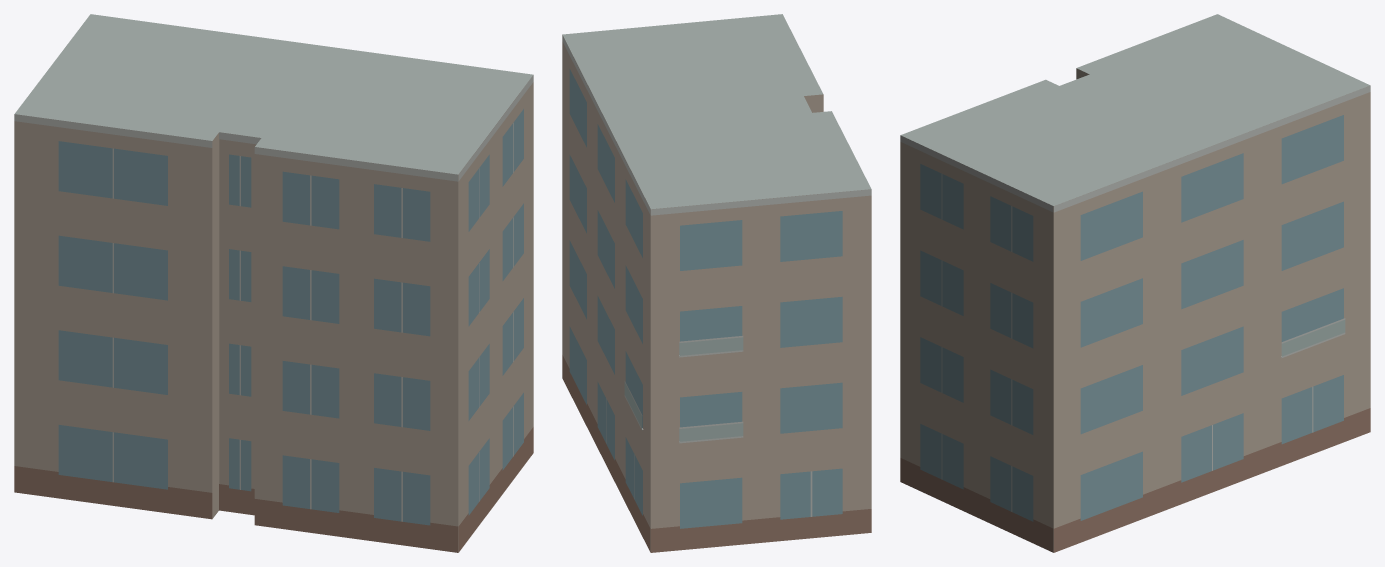
File: survey-upis-32954244.glb
3 views of the same model, side by side, from view 1: azimuth 30°, elevation 25°; view 2: azimuth 150°, elevation 25°; view 3: azimuth 270°, elevation 25° (orthographic). The views are drawn at different scales.
Parts seen in each view (by area): view 1: survey-upis-32954244.tmp; view 2: survey-upis-32954244.tmp; view 3: survey-upis-32954244.tmp.
Part boxes in pixels (bbox=[...]): survey-upis-32954244.tmp: bbox=[14, 14, 533, 552]; survey-upis-32954244.tmp: bbox=[562, 14, 871, 552]; survey-upis-32954244.tmp: bbox=[900, 14, 1370, 552].
Size of the model in its own units: 15.59 by 13.1 by 16.11.
